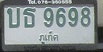txt19: (22, 7, 37, 29)
txt21: (6, 6, 22, 28)
